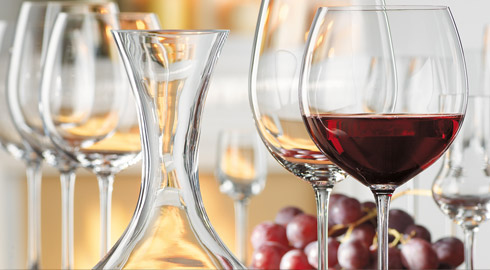Nonrec_Glass: (15, 7, 249, 266), (260, 3, 483, 247)
